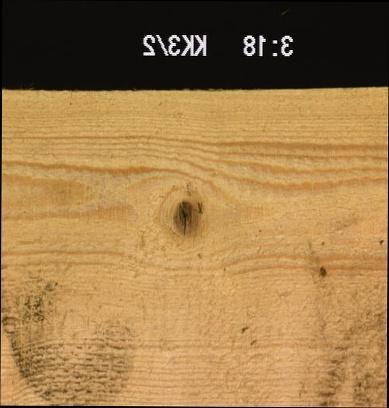small_knot: (314, 258, 331, 280)
sound_knot: (170, 197, 200, 236)
